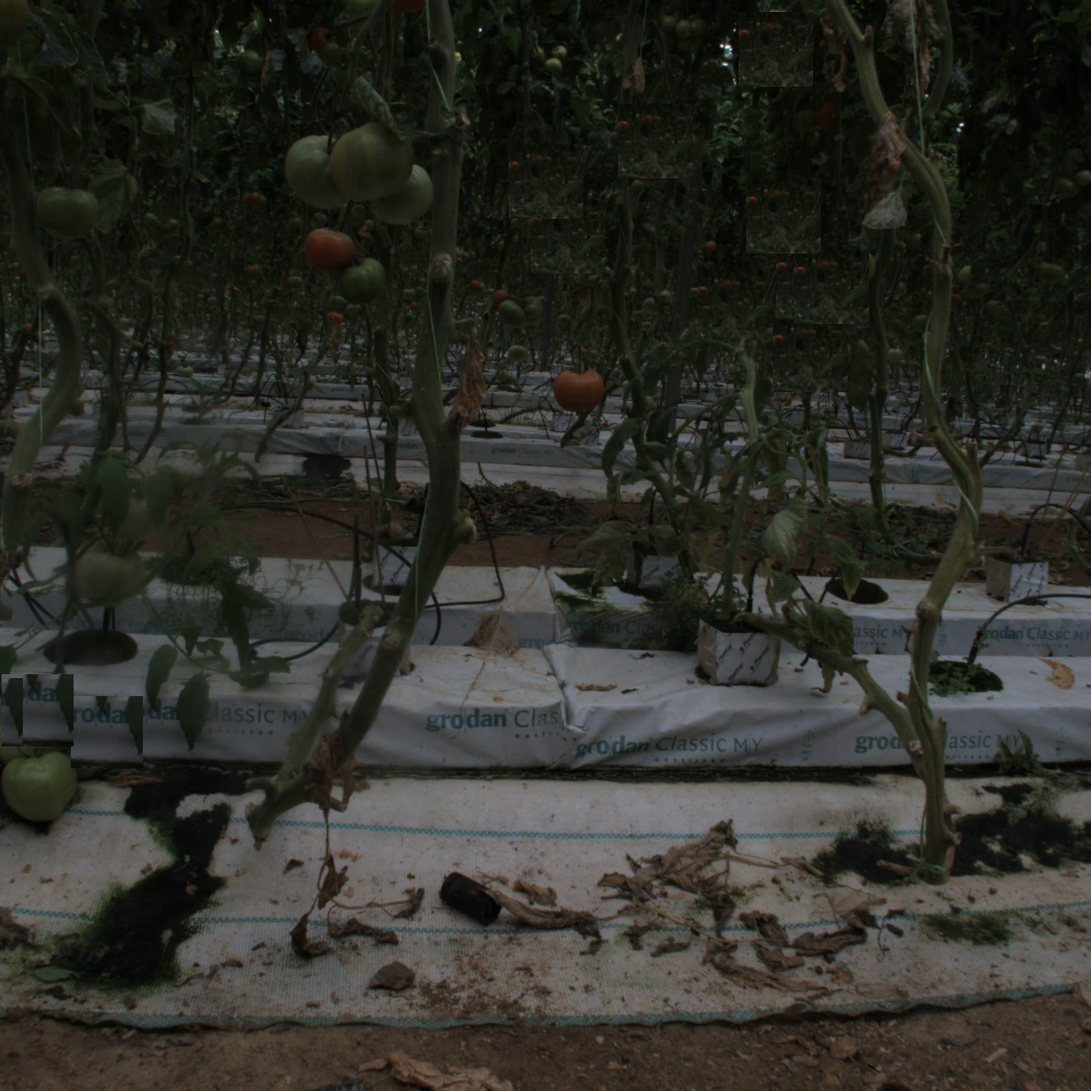fully-ripe: (555, 362, 603, 410), (307, 225, 355, 273)
unripe: (329, 117, 412, 200), (3, 747, 77, 821), (285, 133, 359, 207), (77, 540, 142, 606), (368, 159, 433, 224), (39, 179, 95, 236), (338, 255, 386, 303)
